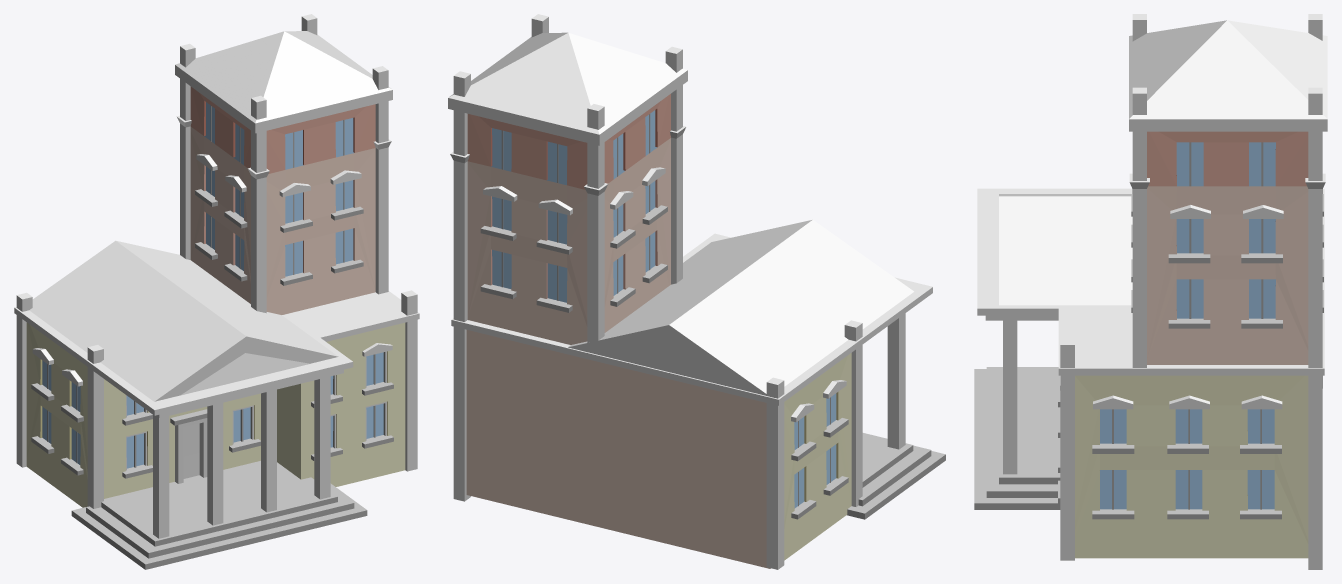
Rendered from house_art_003.fbx.
The picture shows the model from 3 angles, left to right: view 1: azimuth 30°, elevation 25°; view 2: azimuth 150°, elevation 25°; view 3: azimuth 270°, elevation 25°; orthographic projection. The views are drawn at different scales.
Parts seen in each view (by area): view 1: house_art_003; view 2: house_art_003; view 3: house_art_003.
Boxes of the visible parts, box(x1,y1,x2,y2) form: house_art_003: box(14, 14, 419, 569); house_art_003: box(448, 14, 945, 569); house_art_003: box(974, 14, 1327, 569).
Bounding box in the file's own units: 1359 × 1725 × 1084.
